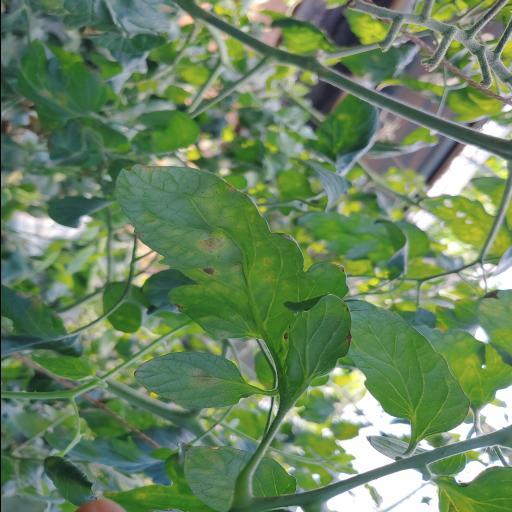disease_tomato: (111, 162, 353, 378), (130, 352, 248, 408)
